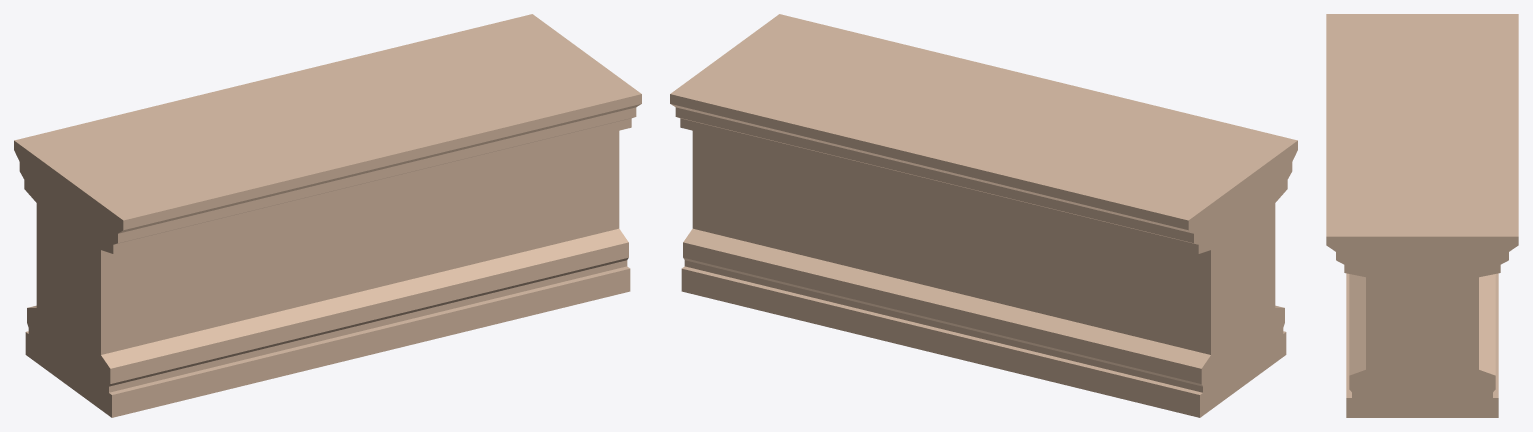
The model's file is BC_Frame_C_02.fbx.
3 renders of one model, left to right at view 1: azimuth 30°, elevation 25°; view 2: azimuth 150°, elevation 25°; view 3: azimuth 270°, elevation 25°, orthographic. The views are drawn at different scales.
Parts seen in each view (by area): view 1: BC_Frame_C_02; view 2: BC_Frame_C_02; view 3: BC_Frame_C_02.
Part boxes in pixels (x1=…): BC_Frame_C_02: x1=14, y1=14, x2=641, y2=417; BC_Frame_C_02: x1=670, y1=14, x2=1297, y2=417; BC_Frame_C_02: x1=1326, y1=14, x2=1518, y2=417.
Size of the model in its own units: 400 by 152 by 146.
